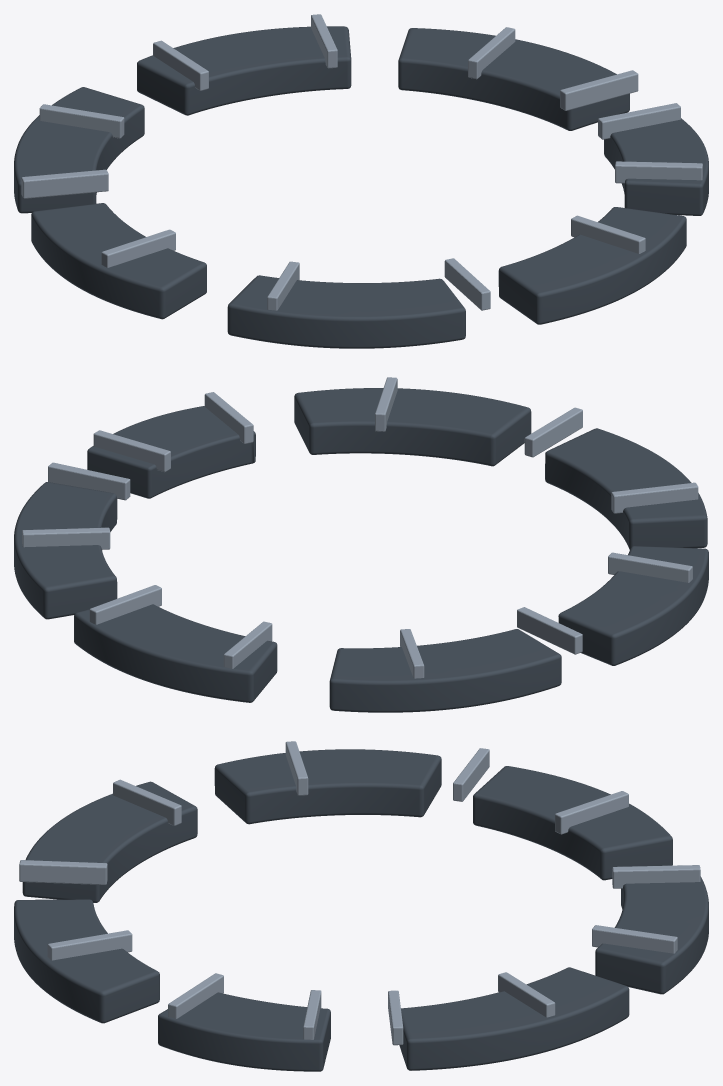
File: ev_core_r11_stator.glb
3 views of the same model, one above another, from view 1: azimuth 30°, elevation 25°; view 2: azimuth 150°, elevation 25°; view 3: azimuth 270°, elevation 25° (orthographic).
Parts seen in each view (by area): view 1: StatorArc_4, StatorArc_0, StatorArc_5, StatorArc_1, StatorArc_3, StatorArc_2, StatorArc_6, StatorRib_5, StatorRib_0, StatorRib_10, StatorRib_4, StatorRib_11 (+7 smaller); view 2: StatorArc_2, StatorArc_5, StatorArc_1, StatorArc_4, StatorArc_0, StatorArc_3, StatorArc_6, StatorRib_0, StatorRib_1, StatorRib_7, StatorRib_5, StatorRib_6 (+7 smaller); view 3: StatorArc_0, StatorArc_3, StatorArc_2, StatorArc_5, StatorArc_6, StatorArc_4, StatorArc_1, StatorRib_8, StatorRib_3, StatorRib_2, StatorRib_9, StatorRib_4 (+7 smaller).
Part boxes in pixels (box(x1,y1,x2,y2)): StatorArc_4: box(227, 275, 465, 348); StatorArc_0: box(398, 28, 629, 130); StatorArc_5: box(498, 207, 686, 324); StatorArc_1: box(137, 26, 351, 115); StatorArc_3: box(31, 203, 206, 319); StatorArc_2: box(14, 87, 144, 213); StatorArc_6: box(604, 118, 708, 215); StatorRib_5: box(21, 169, 108, 198); StatorRib_0: box(560, 70, 638, 110); StatorRib_10: box(615, 161, 702, 183); StatorRib_4: box(39, 104, 124, 138); StatorRib_11: box(598, 103, 680, 139); StatorArc_2: box(329, 629, 561, 712); StatorArc_5: box(294, 388, 531, 466); StatorArc_1: box(74, 604, 277, 702); StatorArc_4: box(545, 428, 707, 549); StatorArc_0: box(14, 482, 117, 619); StatorArc_3: box(558, 546, 708, 665); StatorArc_6: box(87, 406, 255, 498); StatorRib_0: box(48, 462, 130, 500); StatorRib_1: box(22, 527, 110, 549); StatorRib_7: box(611, 482, 698, 513); StatorRib_5: box(517, 607, 582, 654); StatorRib_6: box(608, 552, 692, 582); StatorArc_0: box(399, 967, 629, 1070); StatorArc_3: box(214, 749, 441, 824); StatorArc_2: box(473, 766, 672, 880); StatorArc_5: box(14, 899, 159, 1023); StatorArc_6: box(158, 992, 330, 1071); StatorArc_4: box(22, 781, 197, 902); StatorArc_1: box(595, 876, 708, 994); StatorRib_8: box(19, 860, 107, 884); StatorRib_3: box(612, 865, 700, 888); StatorRib_2: box(592, 925, 677, 953); StatorRib_9: box(47, 930, 132, 960); StatorRib_4: box(555, 791, 628, 834).
Bounding box in the file's own units: 8.29 × 0.59 × 8.31.
